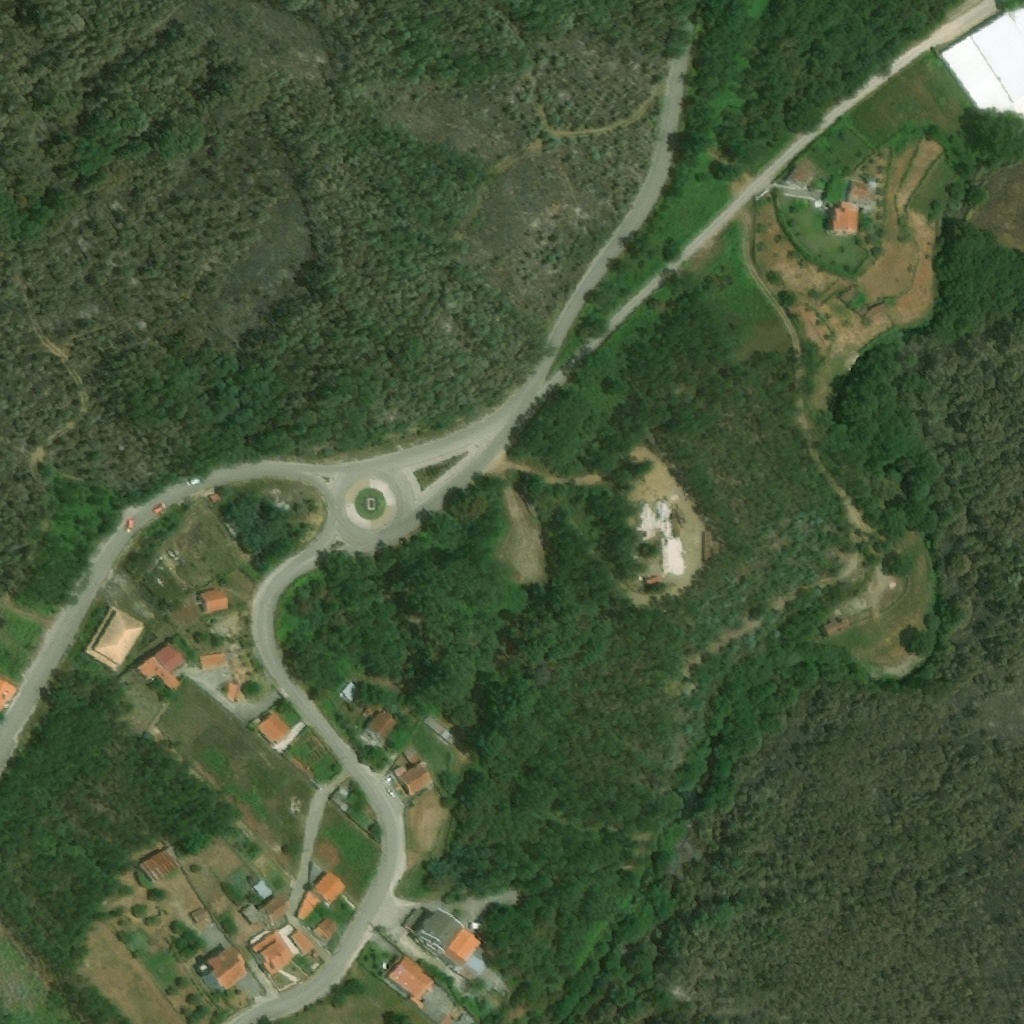0 no-damage: (936, 1, 1023, 139), (83, 605, 147, 673), (402, 906, 464, 959), (387, 954, 437, 1011), (203, 944, 252, 995), (136, 643, 186, 692), (440, 925, 485, 975), (249, 930, 295, 977), (137, 842, 187, 884), (362, 710, 402, 748), (391, 762, 434, 797), (312, 871, 347, 907), (256, 711, 291, 745), (422, 716, 457, 747), (259, 894, 291, 926), (830, 201, 861, 233), (473, 964, 501, 993), (460, 954, 488, 982), (785, 165, 815, 191), (199, 589, 229, 615), (298, 891, 322, 923), (821, 616, 853, 639), (313, 917, 339, 944), (0, 679, 19, 715), (337, 680, 363, 706), (289, 930, 315, 955), (330, 785, 353, 813), (851, 177, 879, 199), (241, 902, 264, 927), (866, 304, 891, 325), (253, 880, 274, 900), (493, 978, 514, 998), (703, 531, 714, 564), (201, 655, 222, 670), (190, 906, 209, 922), (227, 682, 237, 704), (644, 576, 661, 586), (208, 494, 221, 505)
4 un-classified: (223, 516, 246, 540), (443, 1013, 474, 1023)
